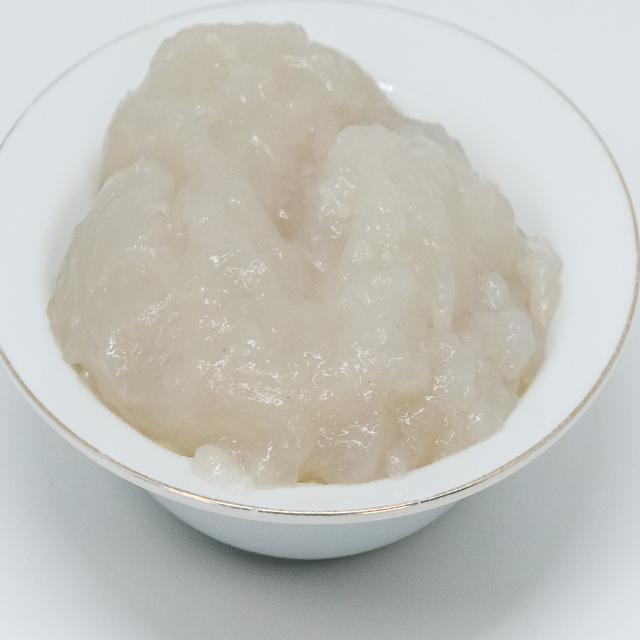Papeda: (35, 7, 566, 482)
